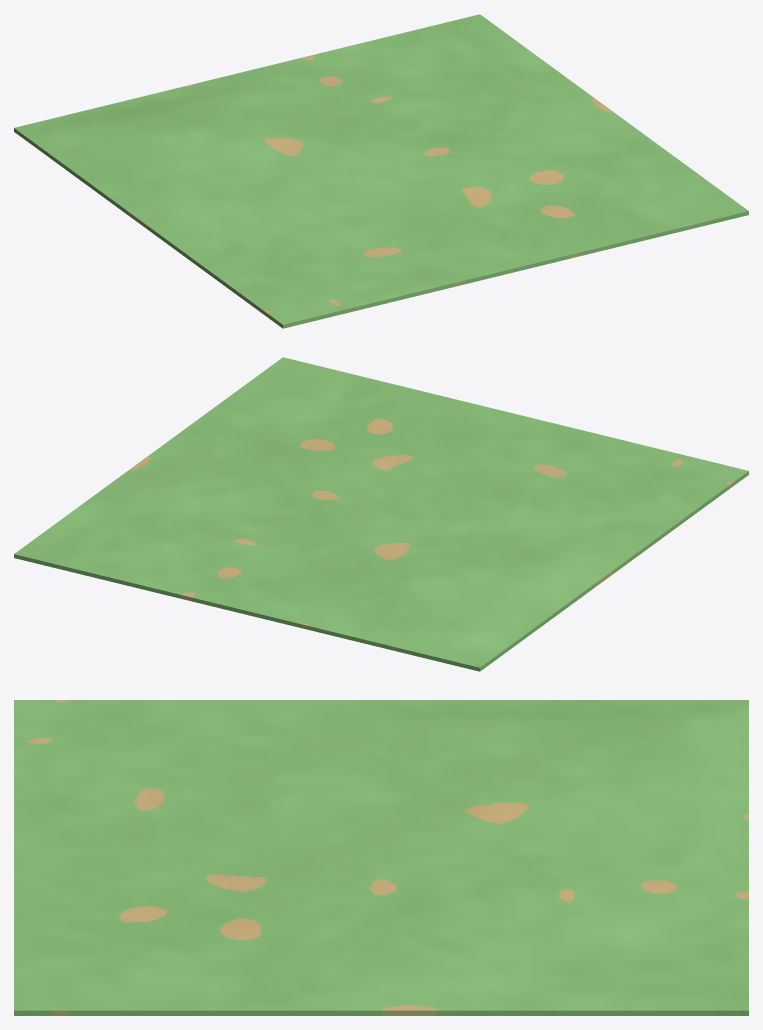
Rendered from Grass_Flat_01.obj.
3 renders of one model, top to bottom at view 1: azimuth 30°, elevation 25°; view 2: azimuth 150°, elevation 25°; view 3: azimuth 270°, elevation 25°, orthographic. The views are drawn at different scales.
Bounding box in the file's own units: 10 × 0.2523 × 10.
Materials: 1 (1 with a texture image).
